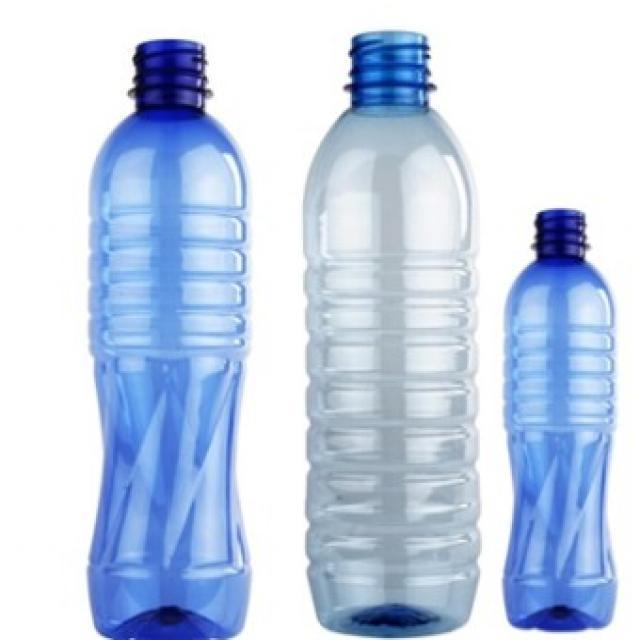plastic_bottle: (305, 29, 478, 638), (87, 39, 253, 640), (501, 208, 618, 630)
